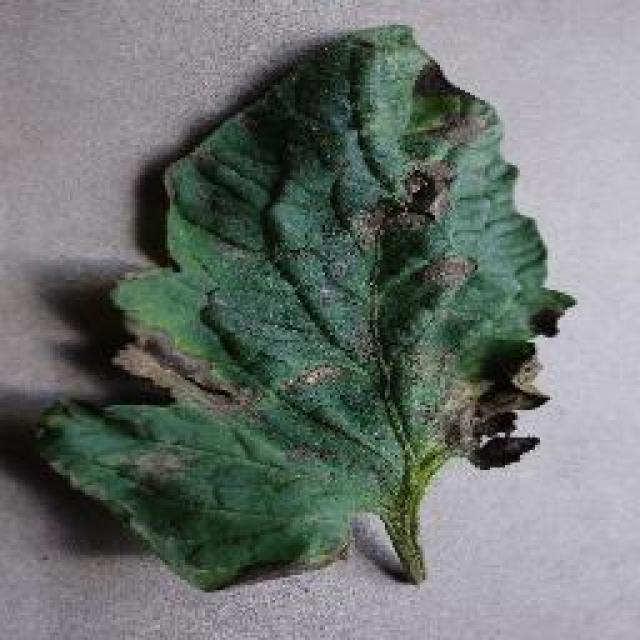Tomato Early blight leaf: (27, 23, 572, 592)
